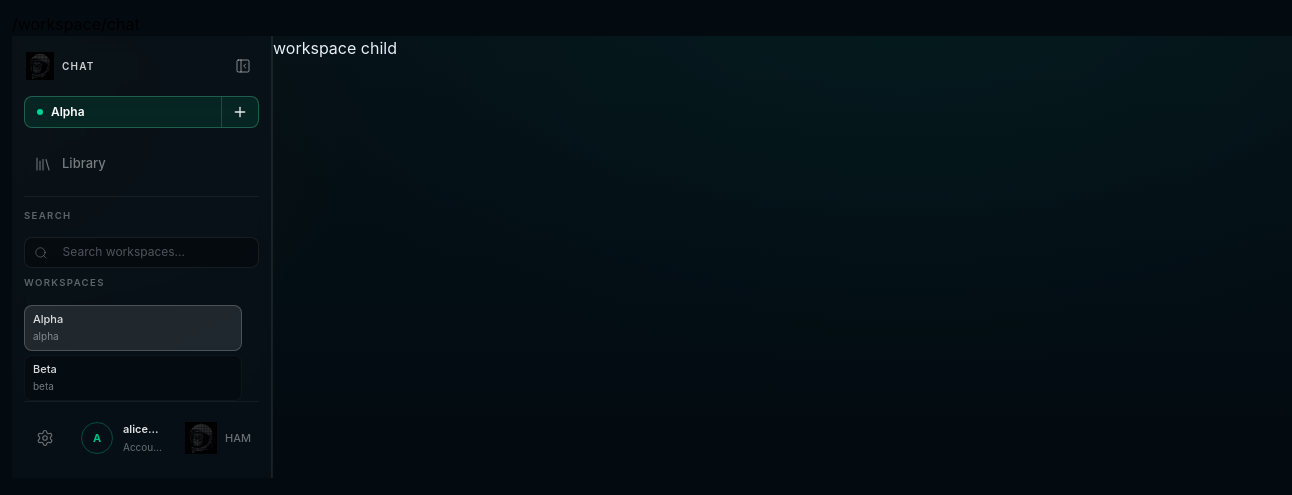
WorkspaceShell workspace sidebar › collapsed primary rail has no workspace search controls
Expected: the text "workspace child" is shown, [273, 38, 397, 58]
Click the button named "Collapse sidebar" at (243, 66), box [229, 52, 257, 80]
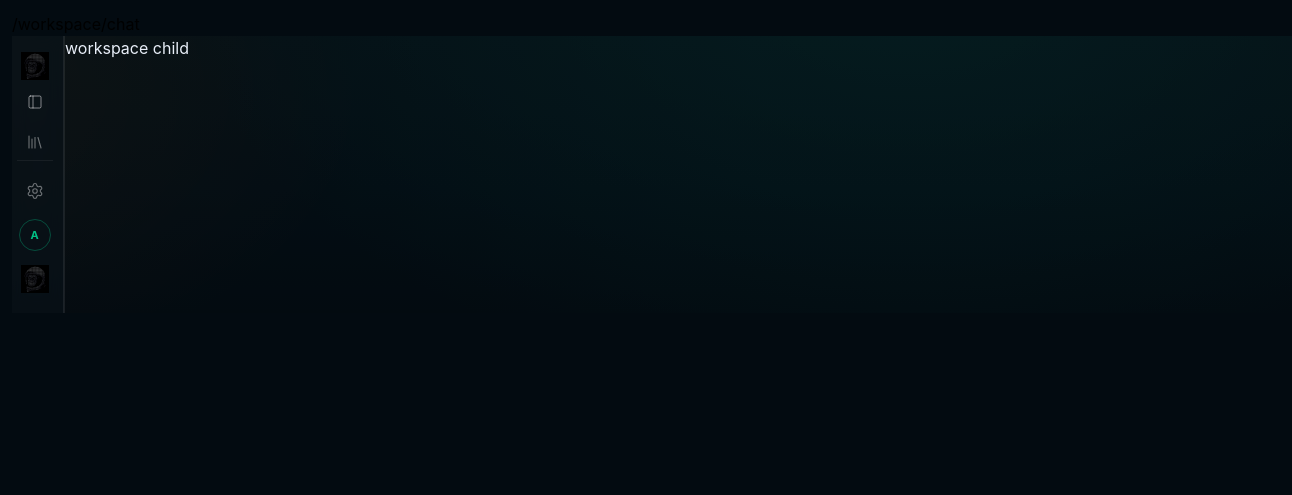
Now the search field with test id "hww-workspace-search" is gone
Now the button with test id "ham-workspace-pill" is gone
